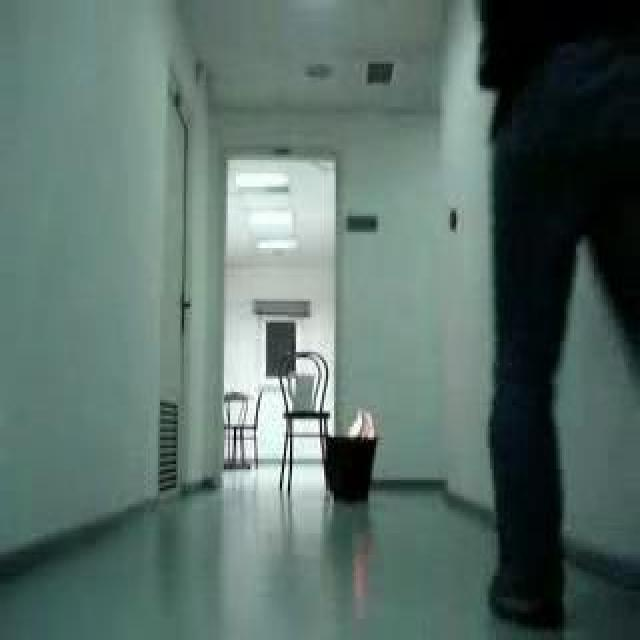Fire: (346, 408, 378, 440)
